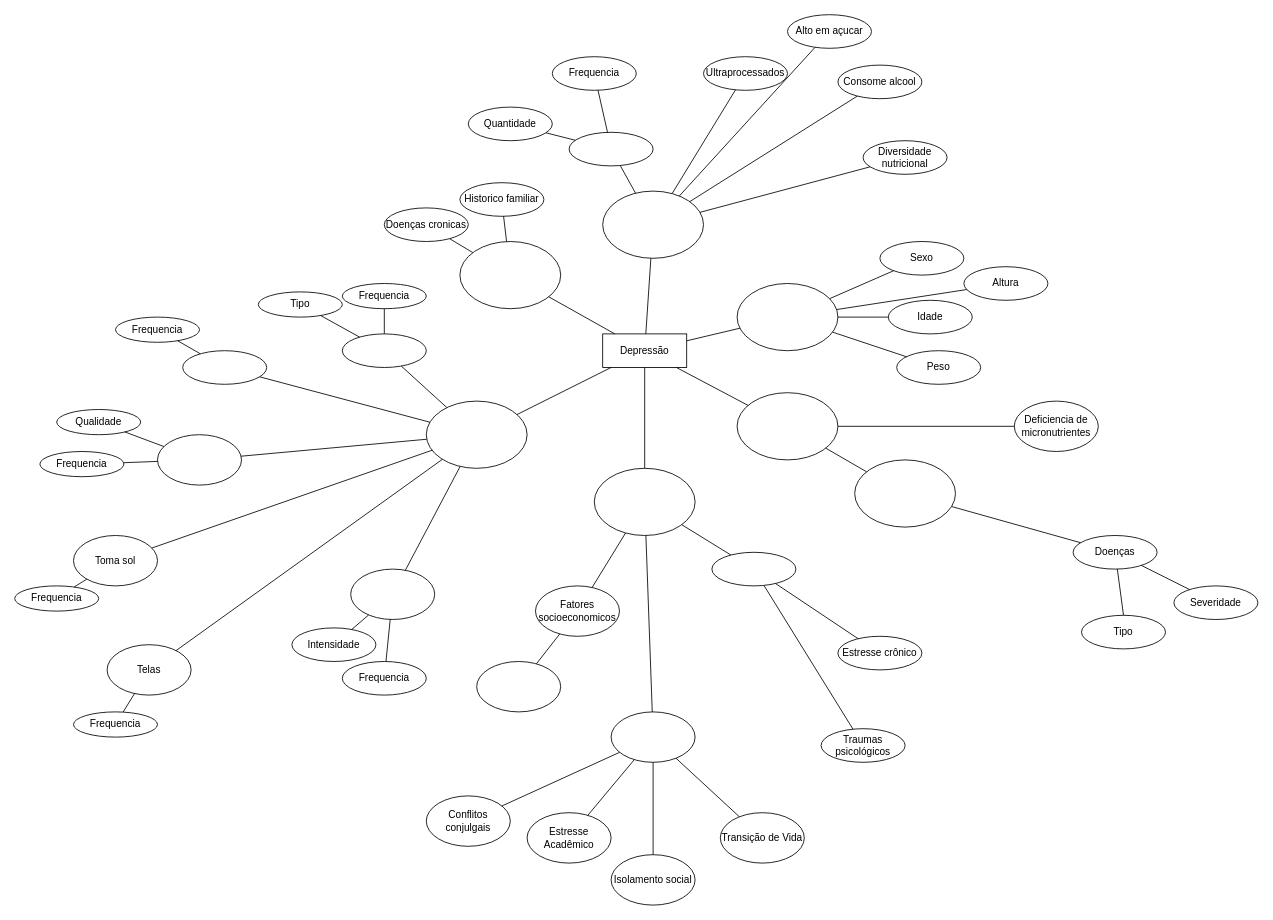
Some shapes in this 1273 by 920 pixel diagram are drawn without their labels. Each missing label, with the centre of its shape:
Alimentação: (653,224)
Bioquimica cerebral: (905,493)
Caracteristicas do individuo: (787,317)
Drogas: (383,350)
Eventos pscicologicos: (753,568)
Eventos vitais: (644,501)
Fatores biologicos: (787,426)
Fatores sociais: (652,736)
Genetica: (510,275)
Habito: (610,148)
Habitos saudaveis: (476,434)
Mudança de condições financeiras: (518,686)
Pratica exercicio fisico: (392,594)
Sono: (199,459)
Tabaco: (224,367)
